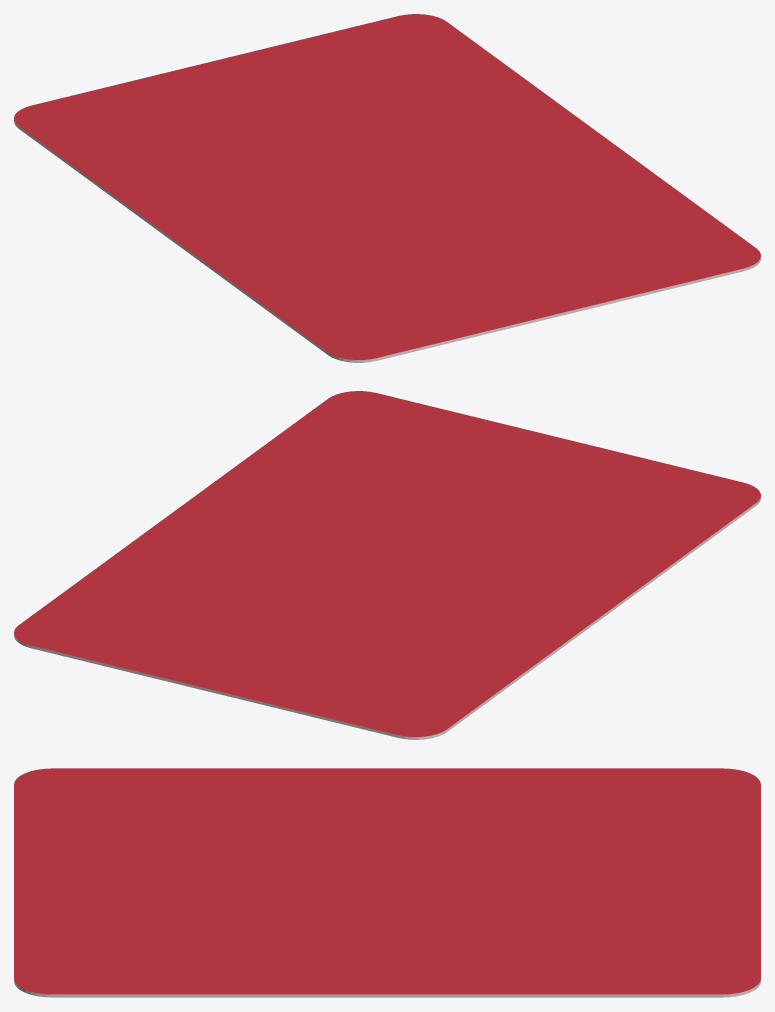
Rendered from card.glb.
3 renders of one model, top to bottom at view 1: azimuth 30°, elevation 25°; view 2: azimuth 150°, elevation 25°; view 3: azimuth 270°, elevation 25°, orthographic. The views are drawn at different scales.
Visible parts, largest first — view 1: Card_Export; view 2: Card_Export; view 3: Card_Export.
Boxes of the visible parts, x1,y1,x2,y2 form: Card_Export: [14, 14, 760, 362]; Card_Export: [14, 391, 760, 739]; Card_Export: [14, 768, 760, 997].
Bounding box in the file's own units: 1.26 × 0.008 × 1.76.
